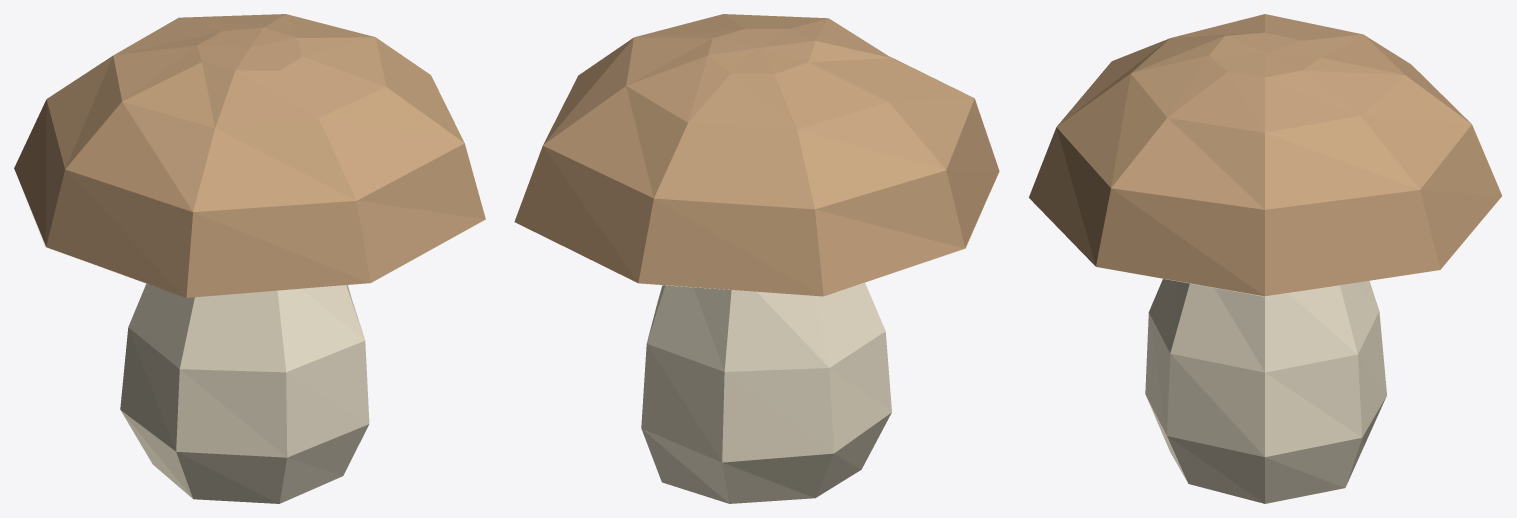
The model's file is safe_bolete.glb.
3 renders of one model, left to right at view 1: azimuth 30°, elevation 25°; view 2: azimuth 150°, elevation 25°; view 3: azimuth 270°, elevation 25°, orthographic. The views are drawn at different scales.
Visible parts, largest first — view 1: Safe_Bolete_Cap, Safe_Bolete_Stem; view 2: Safe_Bolete_Cap, Safe_Bolete_Stem; view 3: Safe_Bolete_Cap, Safe_Bolete_Stem.
Part boxes in pixels (x1,y1,x2,y2): Safe_Bolete_Cap: (14, 14, 485, 297); Safe_Bolete_Stem: (120, 283, 369, 503); Safe_Bolete_Cap: (514, 14, 999, 296); Safe_Bolete_Stem: (641, 283, 891, 503); Safe_Bolete_Cap: (1028, 14, 1502, 296); Safe_Bolete_Stem: (1145, 279, 1386, 503).
Size of the model in its own units: 0.9337 by 0.9069 by 0.9506.
